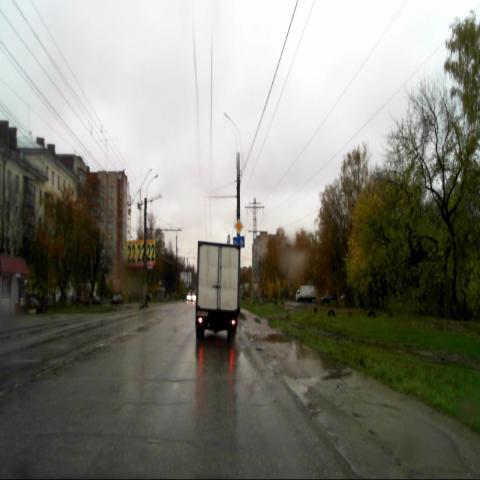2_1: (234, 218, 244, 235)
5_15_2_2: (234, 235, 244, 248)
